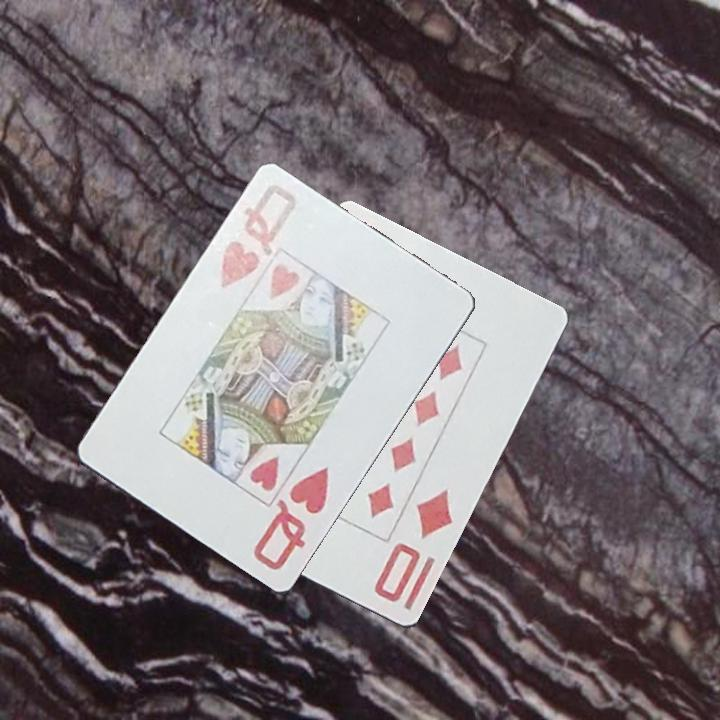Qh: (247, 463, 332, 575), (216, 181, 300, 292)
Td: (370, 486, 456, 606)
